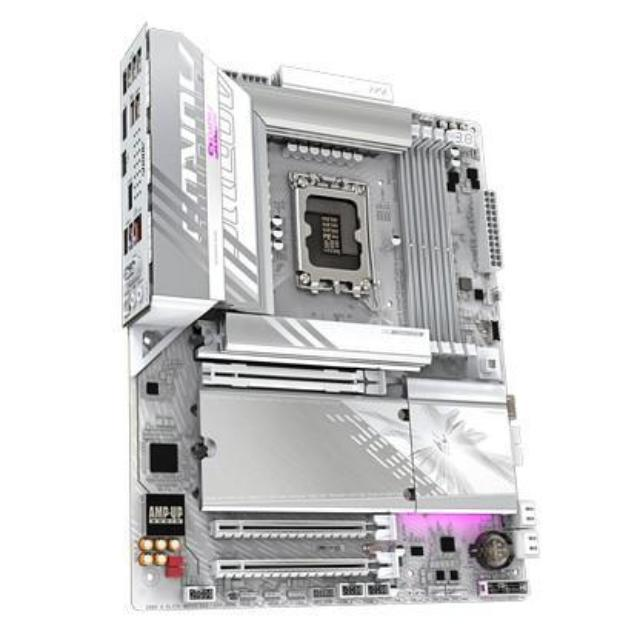Mainboard: (114, 22, 546, 616)
